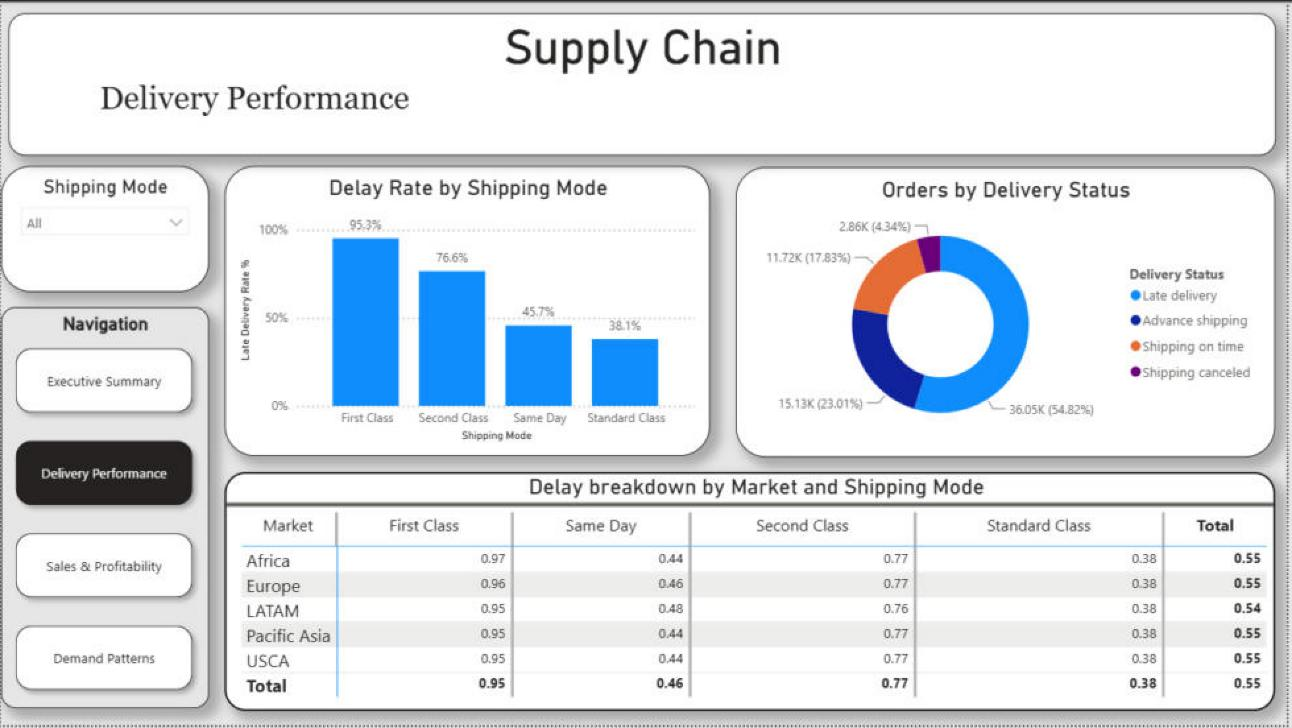

The page's visual inventory and layout, read from the dashboard file:
{"tool":"powerbi","page":{"name":"Delivery Performance","canvas":[1280,720],"ordinal":1},"visuals":[{"type":"clusteredColumnChart","title":"Delay Rate by Shipping Mode","fields":{"Category":["cleaned_supply_chain.Shipping Mode"],"Y":["cleaned_supply_chain.Late Delivery Rate %"]},"box":[222.8,163.5,483.6,288.6],"z":1000,"group":"g1"},{"type":"pivotTable","title":"Delay breakdown by Market and Shipping Mode","fields":{"Columns":["cleaned_supply_chain.Shipping Mode"],"Rows":["cleaned_supply_chain.Market"],"Values":["Avg(cleaned_supply_chain.Late_delivery_risk)"]},"box":[222.8,467.3,1045.9,237.3],"z":1000},{"type":"group","id":"g1","title":"Group 1","box":[222.8,163.5,1045.9,289.3],"z":2000},{"type":"donutChart","title":"Orders by Delivery Status","fields":{"Category":["cleaned_supply_chain.Delivery Status"],"Y":["Count(cleaned_supply_chain.Order Id)"]},"box":[731.7,164.2,537,288.6],"z":2000,"group":"g1"},{"type":"group","id":"g2","title":"Group 2","box":[0,163.5,206.9,541.1],"z":3000},{"type":"textbox","title":"Supply Chain","box":[7.2,11.6,1261.5,141.8],"z":4000},{"type":"slicer","title":"Shipping Mode","fields":{"Values":["cleaned_supply_chain.Shipping Mode"]},"box":[0,163.5,206.9,125.3],"z":4000,"group":"g2"},{"type":"pageNavigator","title":"Navigation","box":[0,304.6,206.9,399.3],"z":5000,"group":"g2"}]}

Visuals, with their boxes in screenshot pixels (x1, y1, x2, y2), scaled from the page's 1280x720 canvas onto the 1292x728 screenshot:
"Delay Rate by Shipping Mode" clusteredColumnChart: <region>225, 165, 713, 457</region>
"Delay breakdown by Market and Shipping Mode" pivotTable: <region>225, 472, 1281, 712</region>
"Group 1" group: <region>225, 165, 1281, 458</region>
"Orders by Delivery Status" donutChart: <region>739, 166, 1281, 458</region>
"Group 2" group: <region>0, 165, 209, 712</region>
"Supply Chain" textbox: <region>7, 12, 1281, 155</region>
"Shipping Mode" slicer: <region>0, 165, 209, 292</region>
"Navigation" pageNavigator: <region>0, 308, 209, 712</region>
